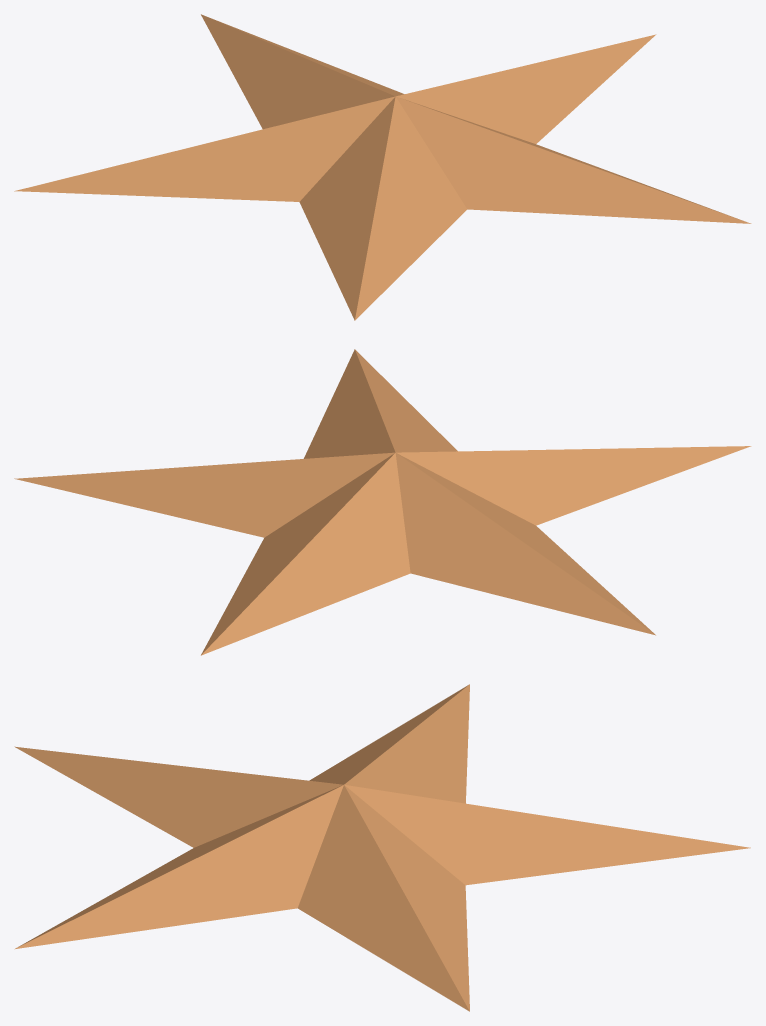
File: starfish.glb
The picture shows the model from 3 angles, top to bottom: view 1: azimuth 30°, elevation 25°; view 2: azimuth 150°, elevation 25°; view 3: azimuth 270°, elevation 25°; orthographic projection. The views are drawn at different scales.
Visible parts, largest first — view 1: five arms; view 2: five arms; view 3: five arms.
Boxes of the visible parts, x1,y1,x2,y2 form: five arms: (14,14,751,320); five arms: (14,349,751,655); five arms: (14,684,750,1011).
Bounding box in the file's own units: 0.7228 × 0.065 × 0.6874.
